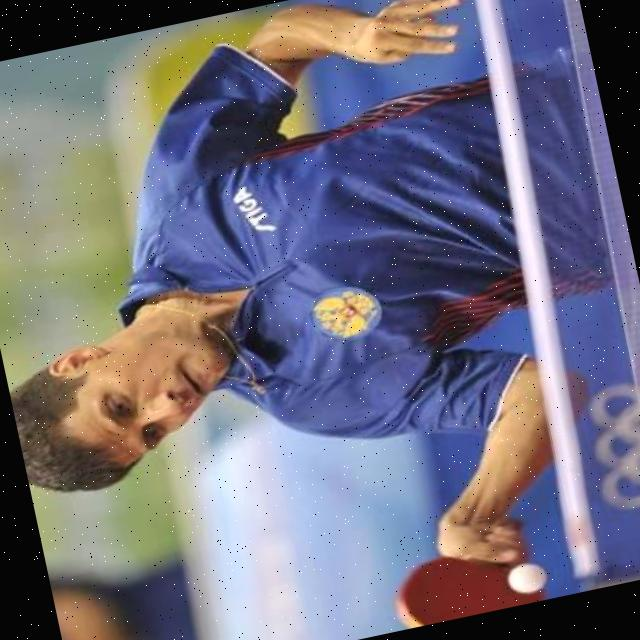ping-pong-ball: (503, 558, 549, 598)
